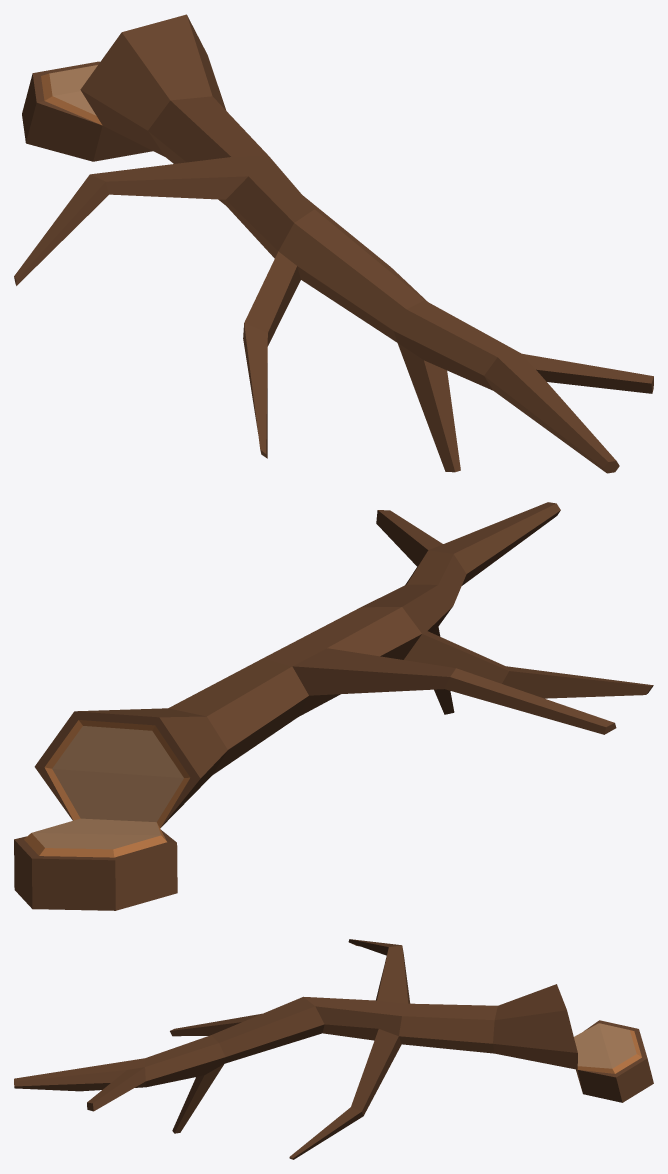
File: Trunk_6.fbx
3 renders of one model, top to bottom at view 1: azimuth 30°, elevation 25°; view 2: azimuth 150°, elevation 25°; view 3: azimuth 270°, elevation 25°, orthographic. The views are drawn at different scales.
Parts seen in each view (by area): view 1: M_Trunk 6; view 2: M_Trunk 6; view 3: M_Trunk 6.
Boxes of the visible parts, left/top/right/bottom form: M_Trunk 6: left=14, top=14, right=653, bottom=473; M_Trunk 6: left=14, top=502, right=653, bottom=910; M_Trunk 6: left=14, top=939, right=653, bottom=1159.
Bounding box in the file's own units: 125 × 61.97 × 256.
Materials: 1 (1 with a texture image).
